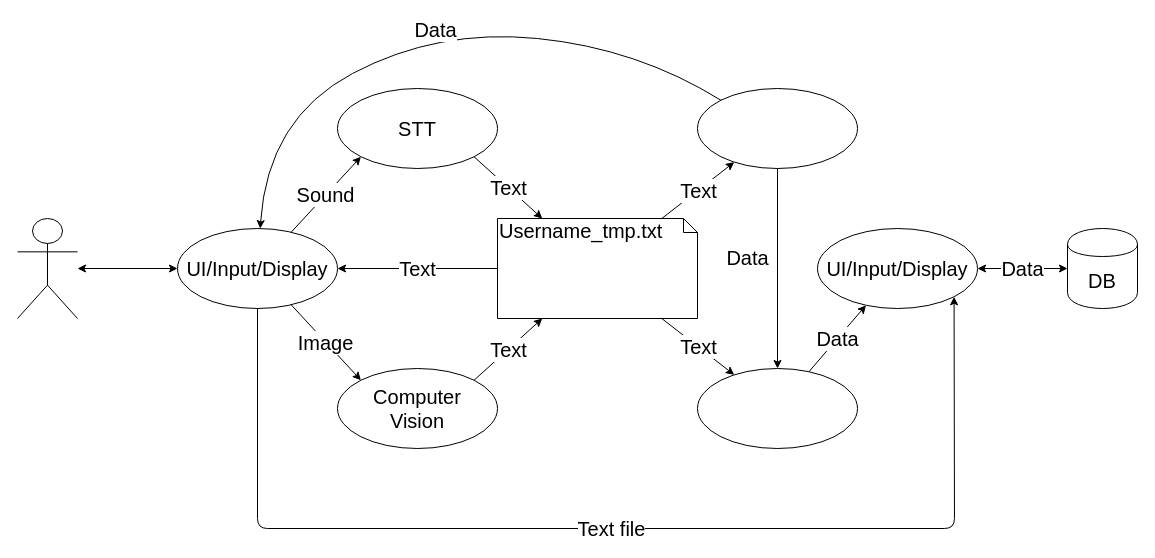
Image size: 1155x558. Some labels were removed from this diagram. Each missing label, with the centre of its shape:
Graph Drawing: the point at 777,408
Natural Language: the point at 777,128
User: the point at 47,268
